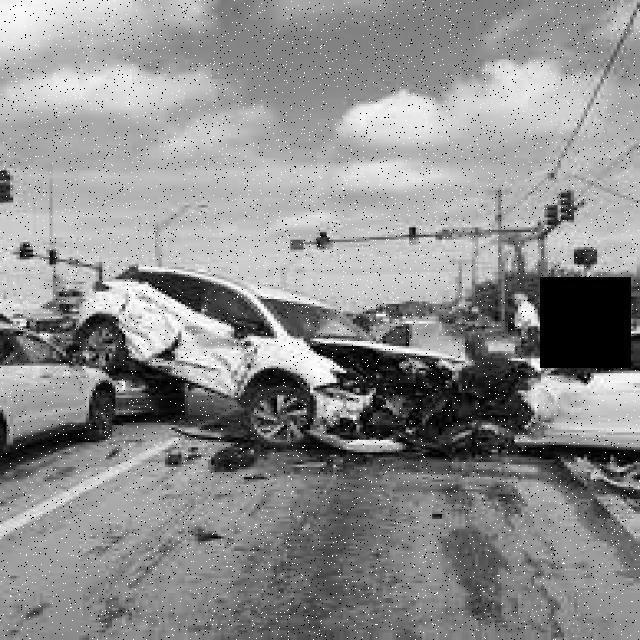accident: (64, 257, 533, 467), (2, 305, 125, 463)
